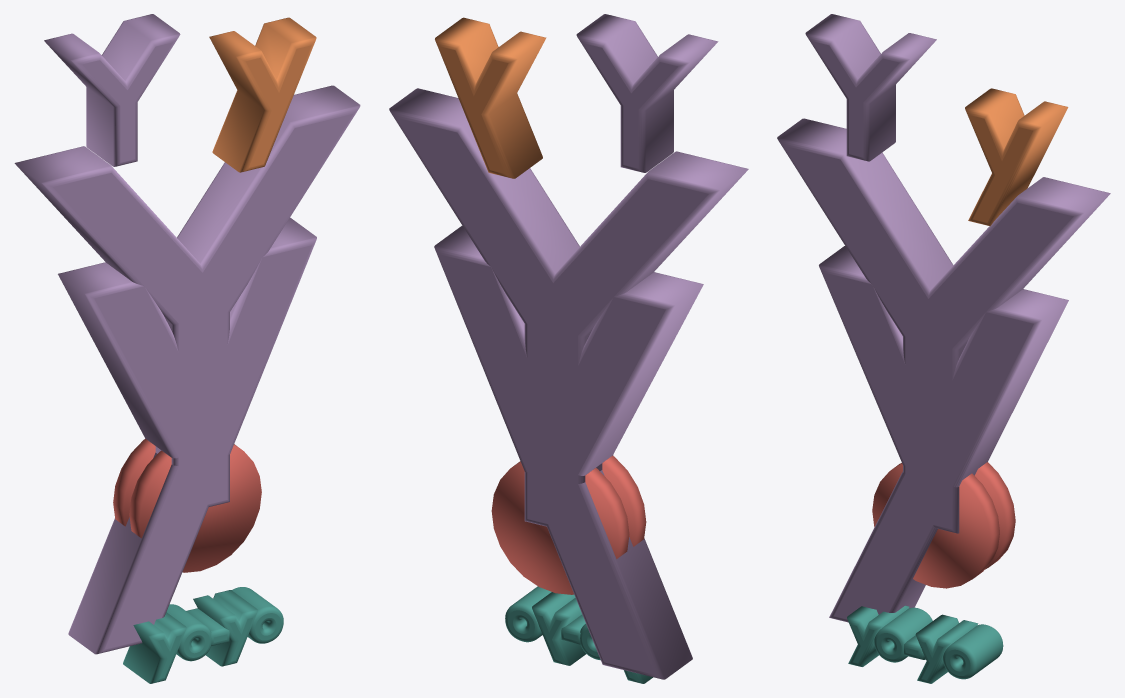
Rendered from letter-y.glb.
3 views of the same model, side by side, from view 1: azimuth 30°, elevation 25°; view 2: azimuth 150°, elevation 25°; view 3: azimuth 330°, elevation 25° (orthographic). The views are drawn at different scales.
Visible parts, largest first — view 1: letter solid, letter solid.001, lowercase solid, uppercase solid, example word, yo-yo disk, yo-yo disk.001; view 2: letter solid, letter solid.001, lowercase solid, uppercase solid, yo-yo disk.001, example word, yo-yo disk; view 3: letter solid, letter solid.001, uppercase solid, example word, lowercase solid, yo-yo disk, yo-yo disk.001.
Part boxes in pixels (x1,y1,x2,y2): letter solid: (14,85,360,511); letter solid.001: (58,217,316,654); lowercase solid: (209,17,316,172); uppercase solid: (44,14,180,166); example word: (123,587,283,683); yo-yo disk: (129,444,261,572); yo-yo disk.001: (113,439,155,526); letter solid: (389,88,748,531); letter solid.001: (434,225,703,679); lowercase solid: (435,17,546,178); uppercase solid: (576,14,718,172); yo-yo disk.001: (491,461,629,594); example word: (505,586,652,683); yo-yo disk: (602,455,646,546); letter solid: (777,118,1110,533); letter solid.001: (819,246,1068,622); uppercase solid: (805,14,936,161); example word: (847,605,1003,683); lowercase solid: (965,88,1068,226); yo-yo disk: (872,463,999,588); yo-yo disk.001: (974,462,1015,569).
Size of the model in its own units: 1.06 by 1.98 by 0.28.
